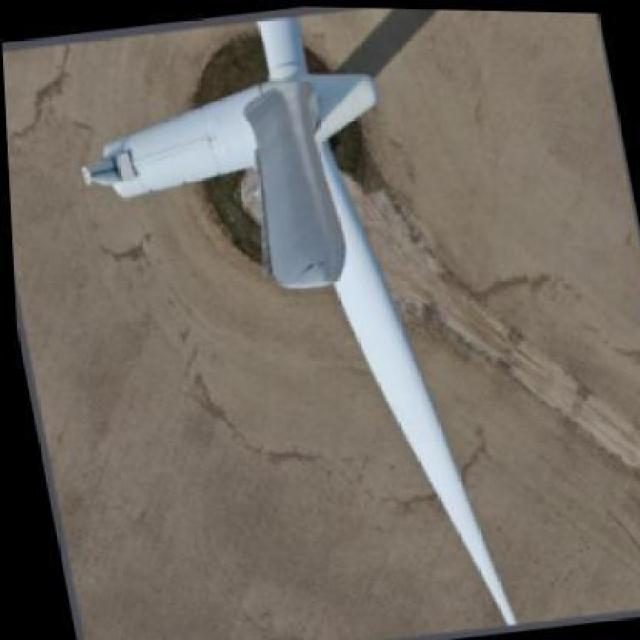Burn Mark: (288, 255, 322, 277)
